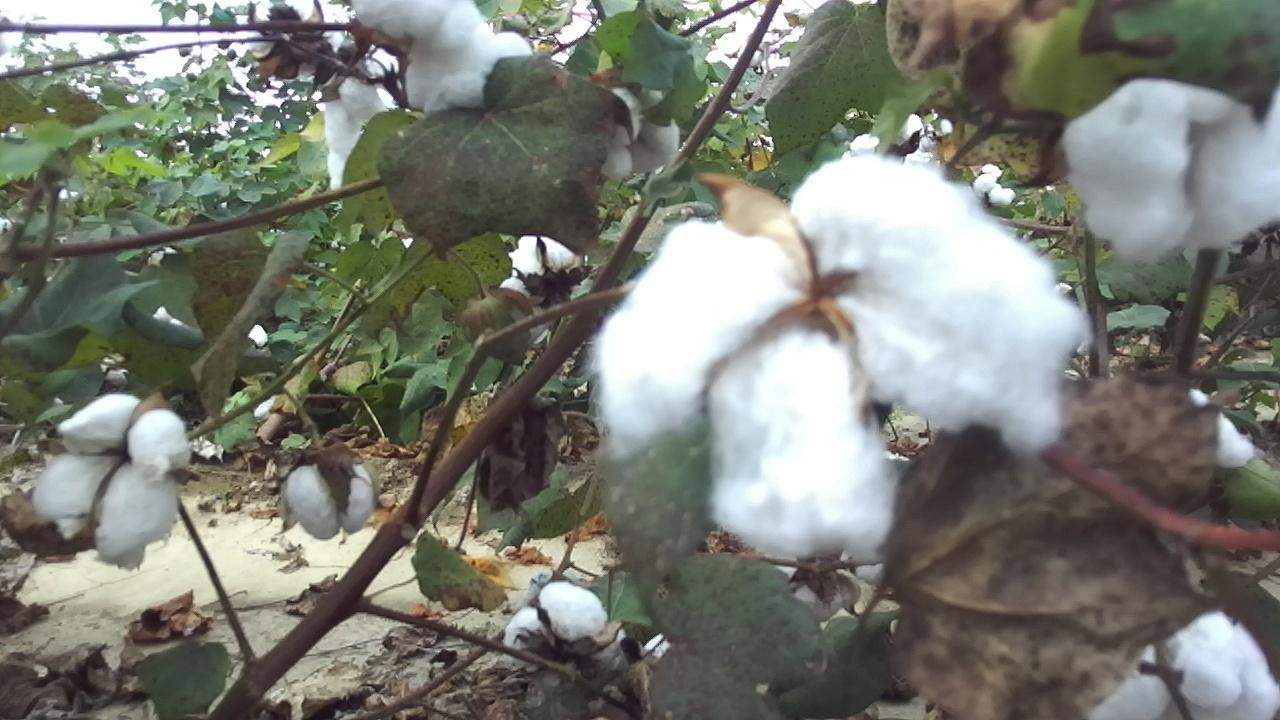cotton_ready: (595, 154, 1087, 558), (1062, 79, 1280, 262), (31, 394, 190, 565), (1088, 610, 1280, 720), (357, 0, 534, 117), (853, 454, 917, 581), (245, 0, 340, 84), (504, 580, 609, 655), (325, 77, 389, 193), (285, 457, 372, 542), (604, 85, 679, 183), (500, 238, 591, 309), (1184, 389, 1264, 467), (776, 564, 864, 618)
